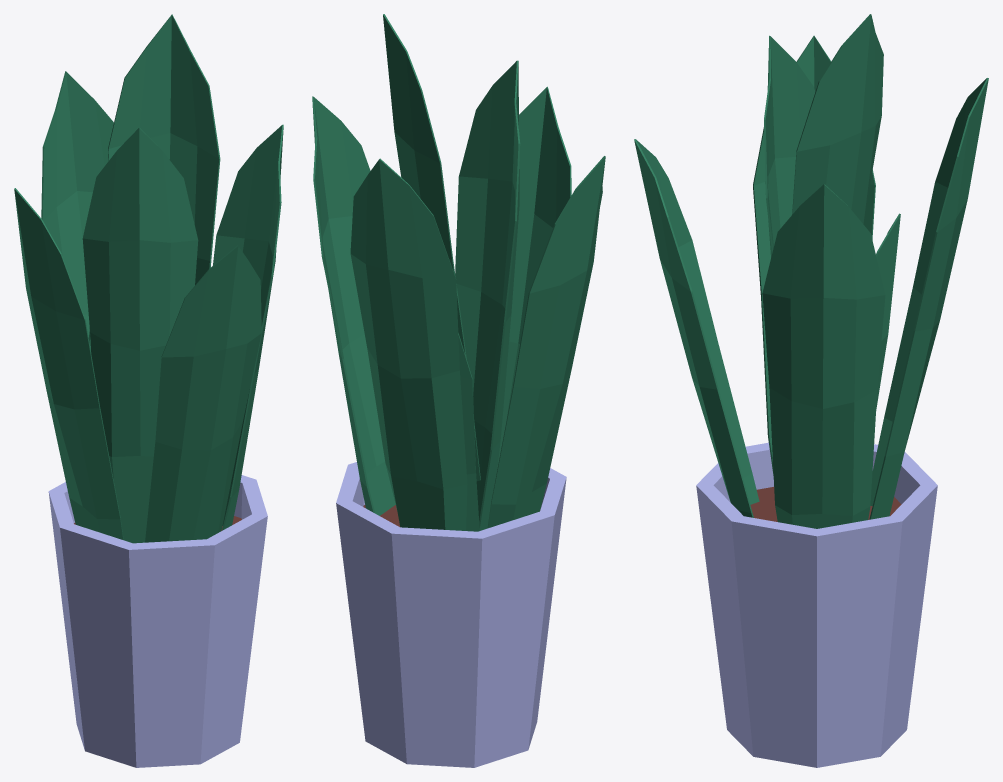
Rendered from Plant04.fbx.
The picture shows the model from 3 angles, left to right: view 1: azimuth 30°, elevation 25°; view 2: azimuth 150°, elevation 25°; view 3: azimuth 270°, elevation 25°; orthographic projection. The views are drawn at different scales.
Visible parts, largest first — view 1: Pot, Leaf.005, Leaf.001, Leaf.003, Leaf.006, Leaf, Leaf.002; view 2: Pot, Leaf, Leaf.005, Leaf.003, Leaf.002, Leaf.001, Leaf.006, Leaf.004; view 3: Pot, Leaf.002, Leaf, Leaf.001, Leaf.006, Leaf.005, Leaf.003, Leaf.004.
Boxes of the visible parts, <box> form: Pot: <box>48,475,267,767</box>; Leaf.005: <box>82,127,198,543</box>; Leaf.001: <box>145,245,261,542</box>; Leaf.003: <box>14,188,123,539</box>; Leaf.006: <box>108,14,220,284</box>; Leaf: <box>41,71,113,337</box>; Leaf.002: <box>213,124,283,530</box>; Pot: <box>336,462,566,767</box>; Leaf: <box>350,158,467,530</box>; Leaf.005: <box>455,60,520,530</box>; Leaf.003: <box>487,156,605,528</box>; Leaf.002: <box>312,96,395,515</box>; Leaf.001: <box>497,86,571,468</box>; Leaf.006: <box>383,14,480,480</box>; Leaf.004: <box>458,333,479,531</box>; Pot: <box>696,442,937,767</box>; Leaf.002: <box>762,184,885,528</box>; Leaf: <box>869,78,988,519</box>; Leaf.001: <box>634,139,759,517</box>; Leaf.006: <box>792,14,883,224</box>; Leaf.005: <box>764,35,815,257</box>; Leaf.003: <box>753,35,875,475</box>; Leaf.004: <box>876,213,900,410</box>.
Size of the model in its own units: 18.74 by 45.11 by 19.72.
